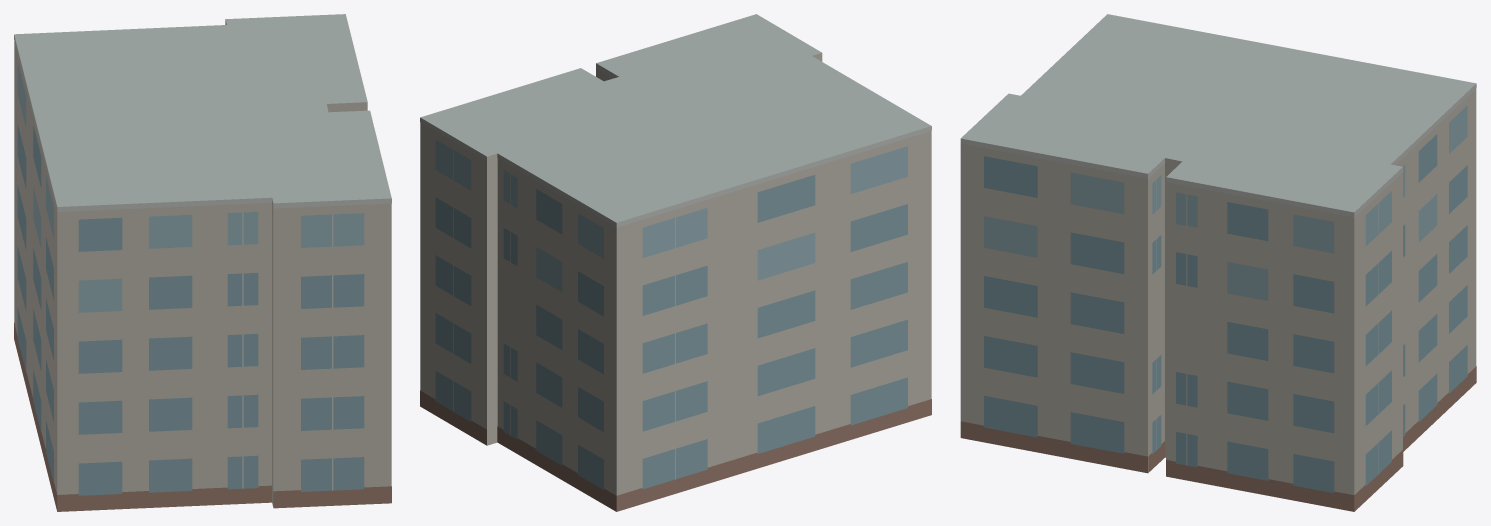
File: survey-upis-33016154.glb
The picture shows the model from 3 angles, left to right: view 1: azimuth 30°, elevation 25°; view 2: azimuth 150°, elevation 25°; view 3: azimuth 270°, elevation 25°; orthographic projection. The views are drawn at different scales.
Parts seen in each view (by area): view 1: survey-upis-33016154.tmp; view 2: survey-upis-33016154.tmp; view 3: survey-upis-33016154.tmp.
Boxes of the visible parts, x1,y1,x2,y2 form: survey-upis-33016154.tmp: (14, 14, 391, 511); survey-upis-33016154.tmp: (420, 14, 931, 511); survey-upis-33016154.tmp: (960, 14, 1476, 511).
Size of the model in its own units: 20.76 by 14.6 by 22.81.
